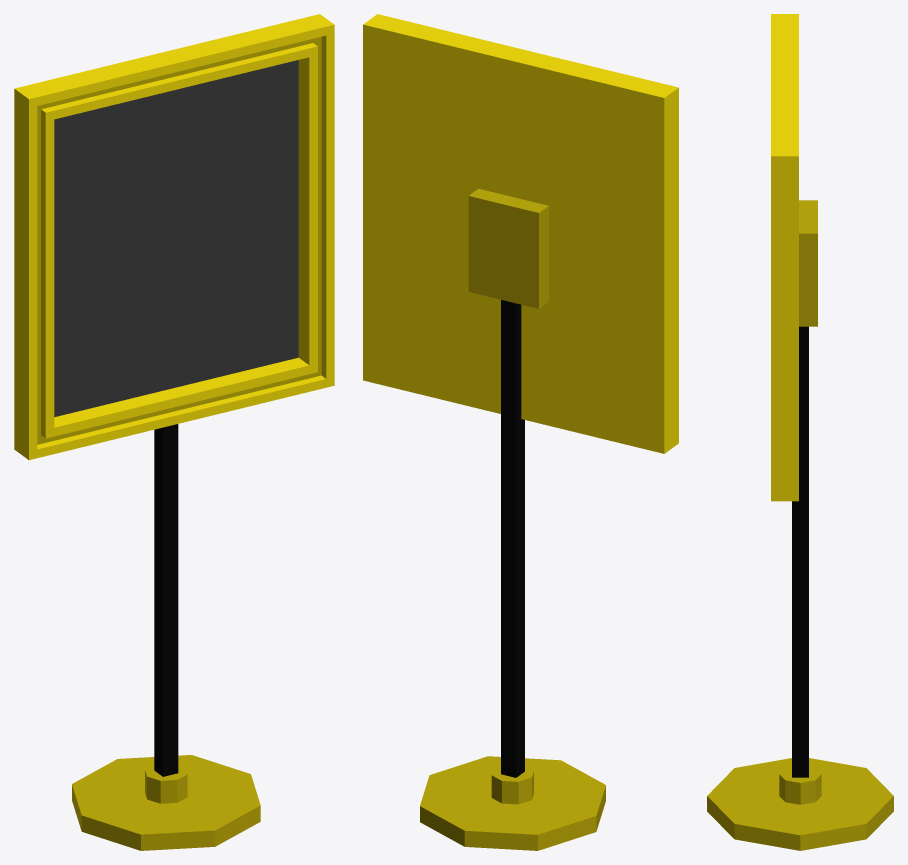
File: mdl_poland_frame_information.gltf
3 renders of one model, left to right at view 1: azimuth 30°, elevation 25°; view 2: azimuth 150°, elevation 25°; view 3: azimuth 270°, elevation 25°, orthographic. The views are drawn at different scales.
Visible parts, largest first — view 1: Cube.063, Cylinder.015, Cube.060; view 2: Cube.063, Cylinder.015, Cube.060, Cube.061; view 3: Cube.063, Cylinder.015, Cube.060, Cube.061.
Boxes of the visible parts, left/top/right/bottom form: Cube.063: left=14, top=14, right=334, bottom=460; Cylinder.015: left=72, top=755, right=260, bottom=850; Cube.060: left=154, top=424, right=178, bottom=776; Cube.063: left=363, top=14, right=678, bottom=453; Cylinder.015: left=420, top=756, right=605, bottom=850; Cube.060: left=501, top=300, right=524, bottom=777; Cube.061: left=468, top=188, right=548, bottom=308; Cube.063: left=771, top=14, right=798, bottom=501; Cylinder.015: left=707, top=758, right=893, bottom=850; Cube.060: left=792, top=326, right=808, bottom=777; Cube.061: left=799, top=200, right=817, bottom=326.
Bounding box in the file's own units: 1.05 × 2.5 × 0.5823.
Materials: 1 (1 with a texture image).
